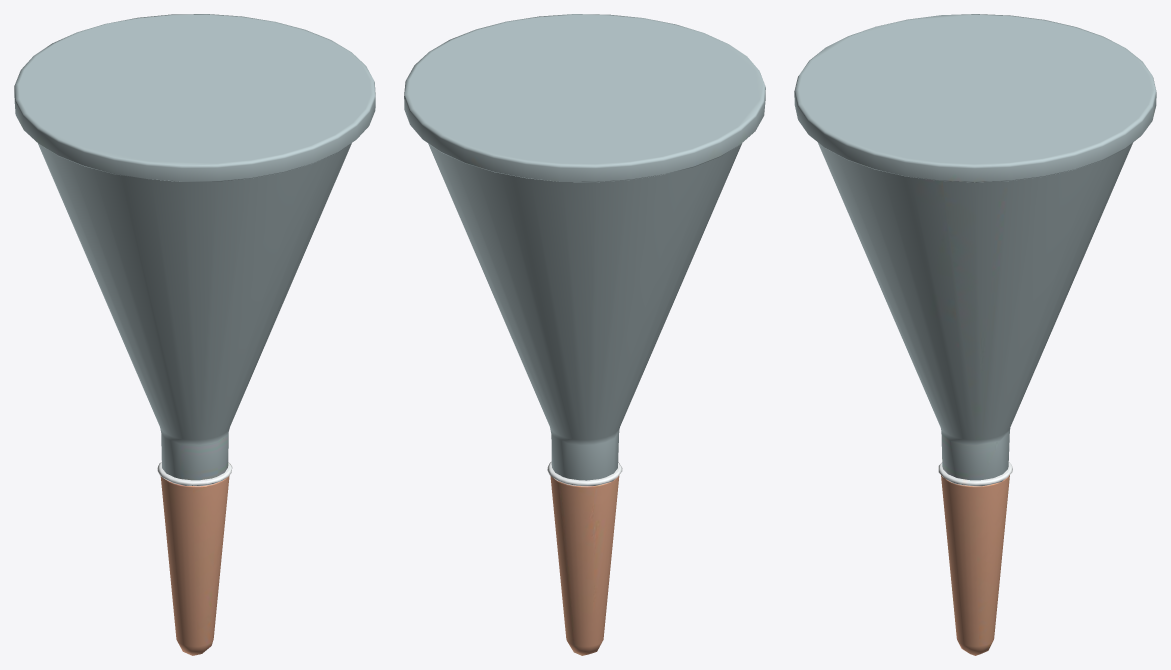
3 renders of one model, left to right at view 1: azimuth 30°, elevation 25°; view 2: azimuth 150°, elevation 25°; view 3: azimuth 270°, elevation 25°, orthographic.
Visible parts, largest first — view 1: ASY_ART_80570874_S01_NV01; view 2: ASY_ART_80570874_S01_NV01; view 3: ASY_ART_80570874_S01_NV01.
Boxes of the visible parts, box(x1,y1,x2,y2) form: ASY_ART_80570874_S01_NV01: box(14, 14, 375, 655); ASY_ART_80570874_S01_NV01: box(404, 14, 765, 655); ASY_ART_80570874_S01_NV01: box(794, 14, 1156, 655).
Bounding box in the file's own units: 0.135 × 0.2313 × 0.135.
2 materials, 2 textured.
